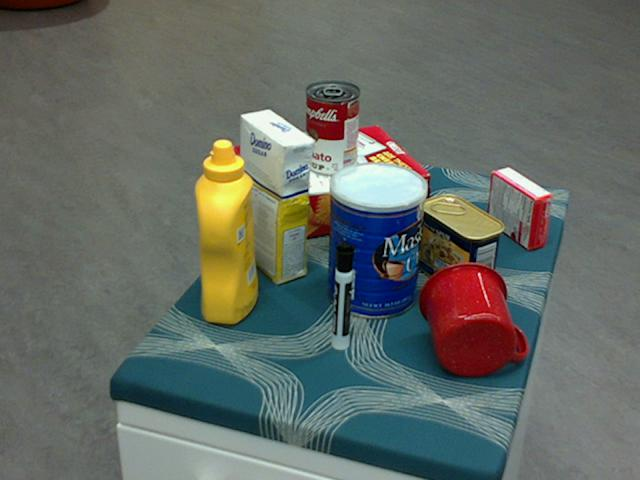cracker_box: (231, 124, 429, 247)
gelatin_box: (488, 167, 553, 250)
large_marker: (332, 242, 352, 351)
master_chef_can: (328, 161, 427, 319)
mug: (419, 260, 526, 376)
mustard_bottle: (194, 139, 258, 325)
potted_meat_can: (419, 194, 505, 297)
sugar_box: (239, 110, 312, 286)
tomato_soup_can: (305, 81, 360, 177)
tuna_fish_can: (350, 168, 422, 240)
